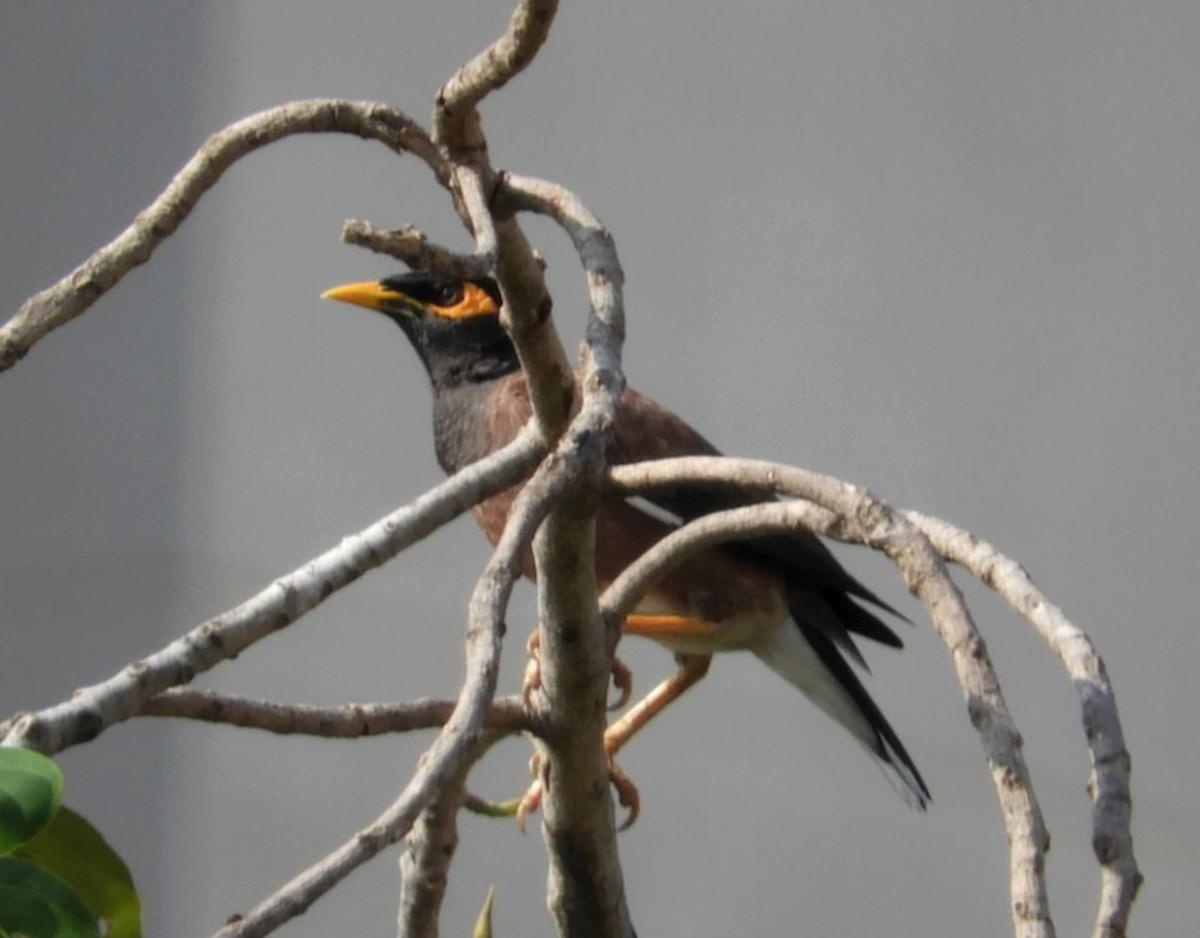myna: (312, 249, 956, 817)
